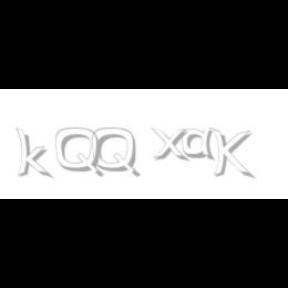K: (212, 128, 252, 180)
Q: (56, 128, 102, 178), (92, 128, 138, 178)
a: (181, 128, 218, 160)
k: (15, 128, 53, 180)
x: (151, 128, 193, 162)
